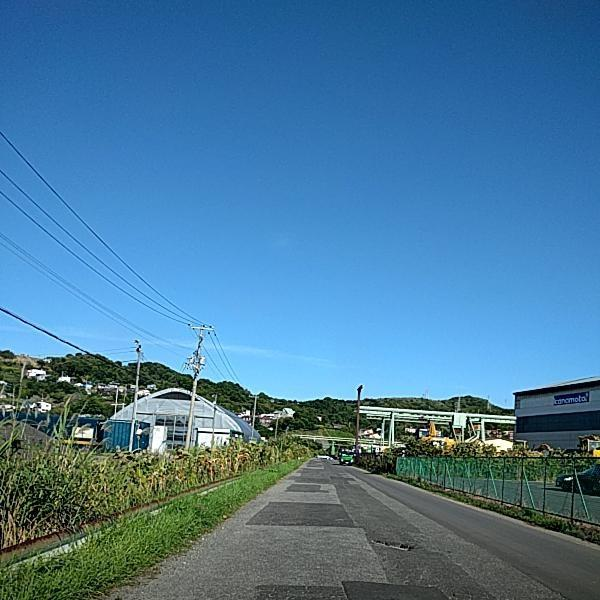pothole: (371, 539, 414, 552)
